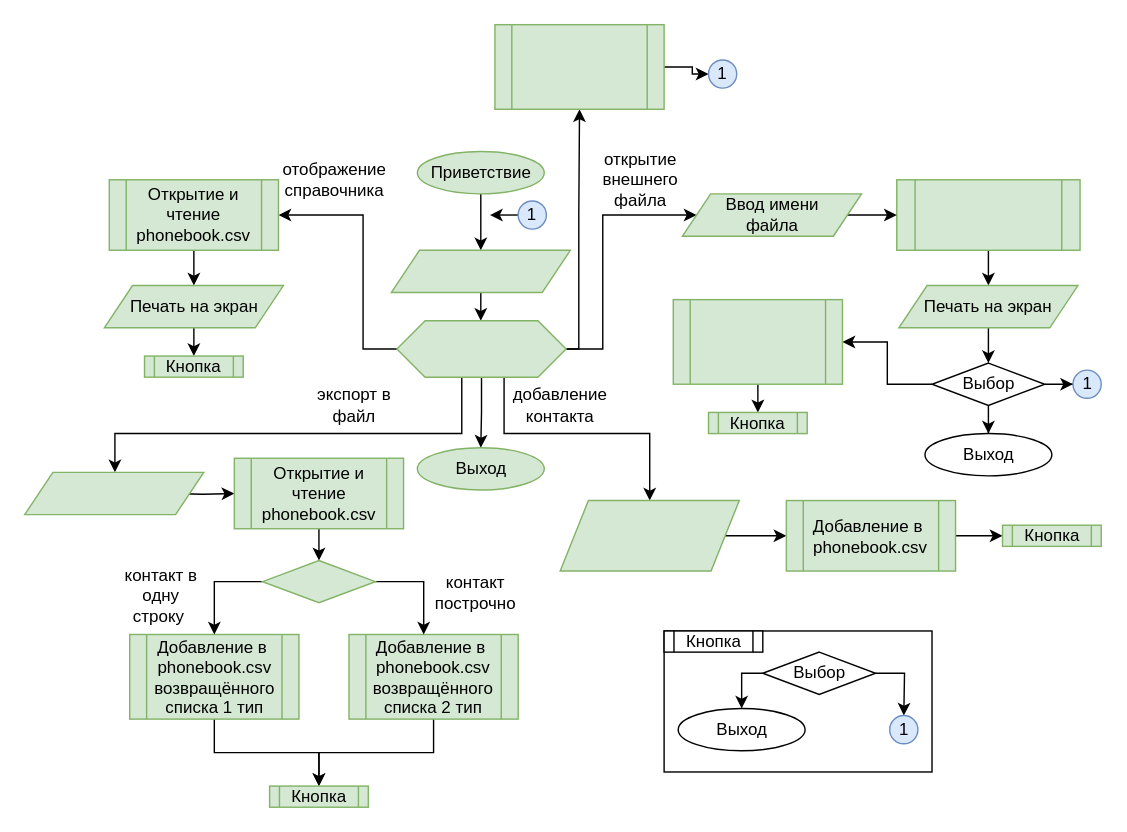
This 1127x832 diagram has some shape labels left out. Here are the shapes that lost their labels. From the top down, the centre of each, then its label:
(579,66): Удаление последнего контакта из phonebook.csv
(987,214): Открытие и чтение внешнего файла
(480,271): Выбор режима
(481,348): Выбор функции
(757,341): Добавление в phonebook.csv возвращённого списка
(113,493): Вид экспорта
(649,535): Ввод фамилии, имени, телефона, описания
(318,581): Вид
